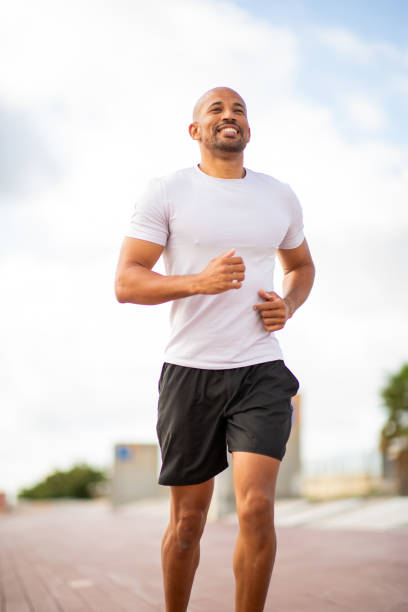Male: (110, 87, 327, 612)
